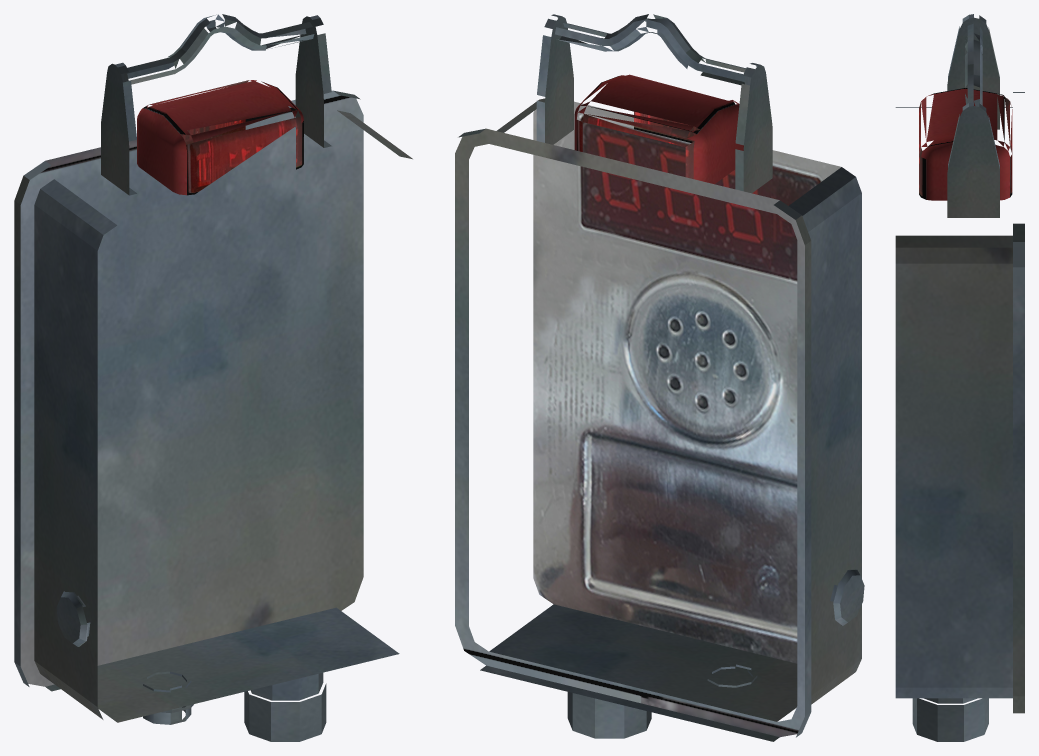
Rendered from GELH100.gltf.
3 renders of one model, left to right at view 1: azimuth 30°, elevation 25°; view 2: azimuth 150°, elevation 25°; view 3: azimuth 270°, elevation 25°, orthographic. The views are drawn at different scales.
Visible parts, largest first — view 1: MatrixTransform_Group_MatrixTransform_Group_0:MatrixTransfor (×3); view 2: MatrixTransform_Group_MatrixTransform_Group_0:MatrixTransfor (×3); view 3: MatrixTransform_Group_MatrixTransform_Group_0:MatrixTransfor (×3).
Boxes of the visible parts, <box> form: MatrixTransform_Group_MatrixTransform_Group_0:MatrixTransfor (×3): <box>14,14,412,741</box>; MatrixTransform_Group_MatrixTransform_Group_0:MatrixTransfor (×3): <box>455,14,864,741</box>; MatrixTransform_Group_MatrixTransform_Group_0:MatrixTransfor (×3): <box>895,14,1024,741</box>.
Bounding box in the file's own units: 0.1274 × 0.2492 × 0.0448.
Materials: 1 (1 with a texture image).
